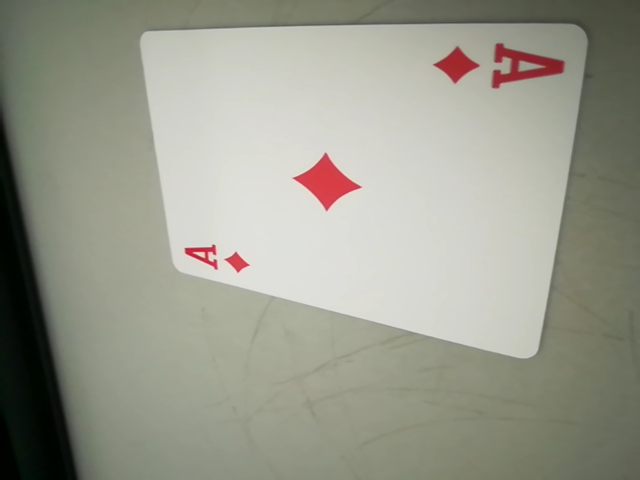fk a: (430, 35, 566, 95), (177, 233, 258, 278)
